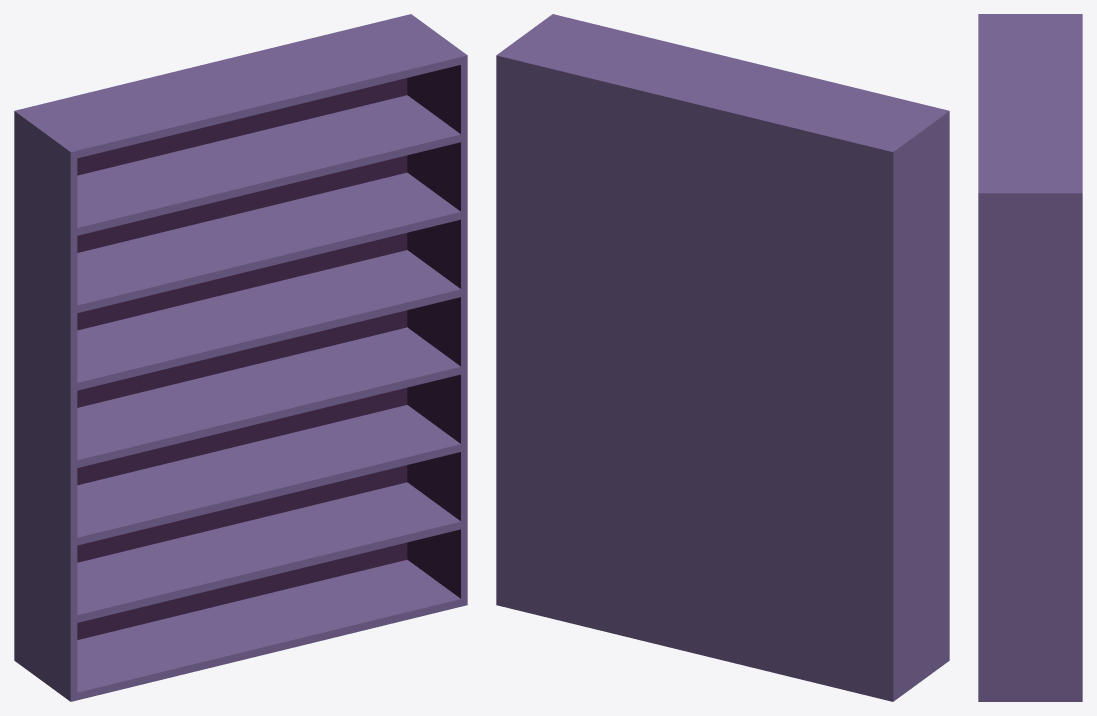
Rendered from Estanteria basicaMorada.fbx.
3 renders of one model, left to right at view 1: azimuth 30°, elevation 25°; view 2: azimuth 150°, elevation 25°; view 3: azimuth 270°, elevation 25°, orthographic. The views are drawn at different scales.
Visible parts, largest first — view 1: Estanteria; view 2: Estanteria; view 3: Estanteria.
Boxes of the visible parts, x1,y1,x2,y2 form: Estanteria: (14,14,467,701); Estanteria: (496,14,949,701); Estanteria: (978,14,1082,701).
Size of the model in its own units: 200 by 265 by 49.35.
